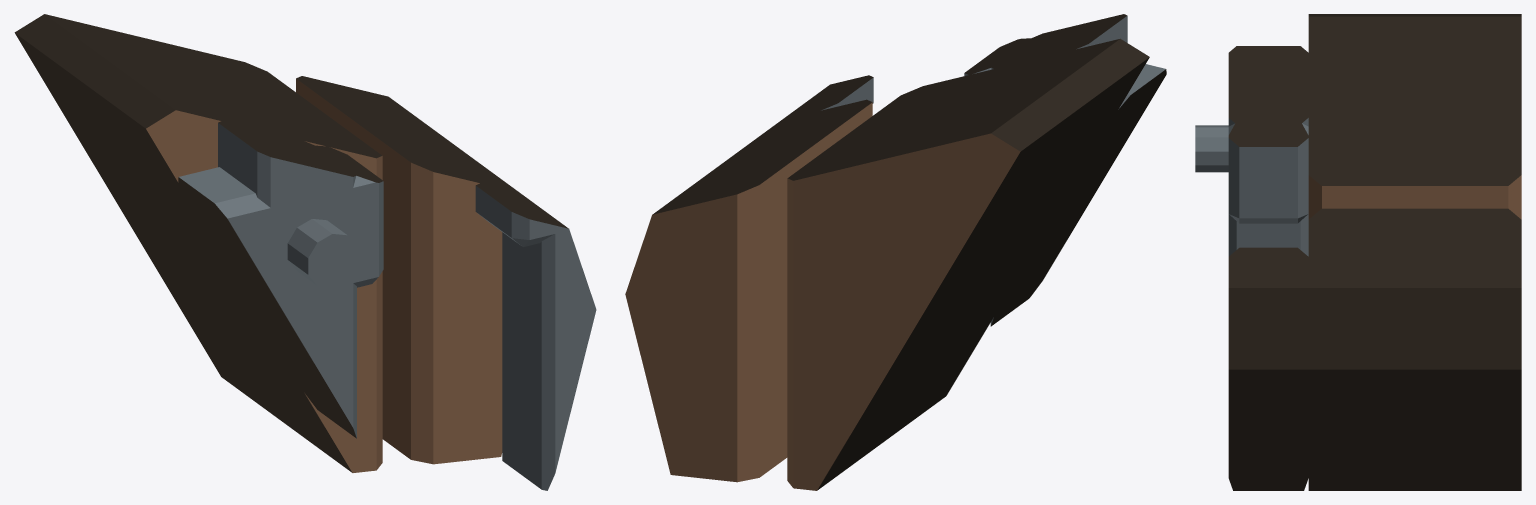
The model's file is SM_DoorShard_01_36.fbx.
3 renders of one model, left to right at view 1: azimuth 30°, elevation 25°; view 2: azimuth 150°, elevation 25°; view 3: azimuth 270°, elevation 25°, orthographic. The views are drawn at different scales.
Visible parts, largest first — view 1: SM_DoorShard_01_36; view 2: SM_DoorShard_01_36; view 3: SM_DoorShard_01_36.
Part boxes in pixels (x1,y1,x2,y2): SM_DoorShard_01_36: [14, 14, 596, 490]; SM_DoorShard_01_36: [625, 14, 1166, 490]; SM_DoorShard_01_36: [1195, 14, 1521, 490].
Size of the model in its own units: 28.22 by 24.5 by 28.63.
